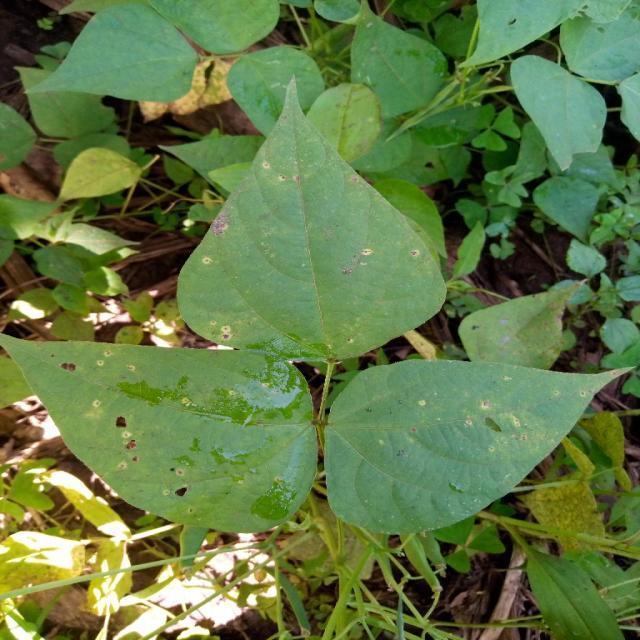hawar: (464, 379, 554, 458), (343, 238, 448, 284), (209, 208, 256, 273), (251, 150, 309, 199), (109, 399, 146, 457), (331, 165, 378, 209), (160, 479, 213, 505), (50, 353, 92, 383)
